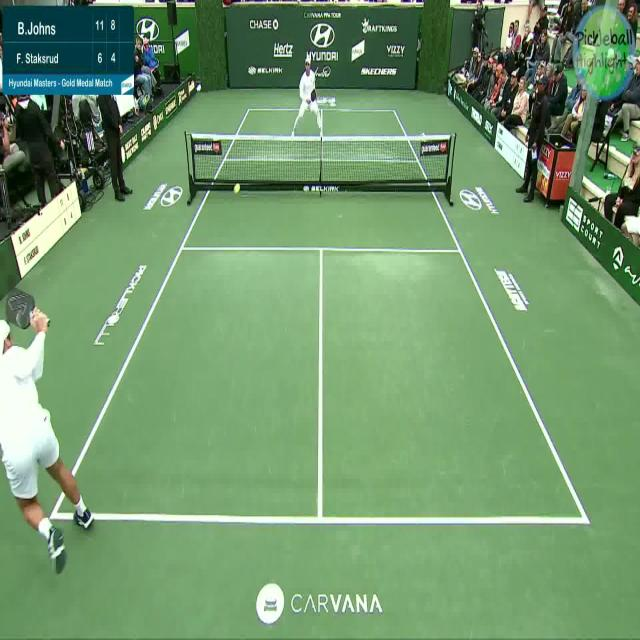ball: (234, 180, 240, 193)
